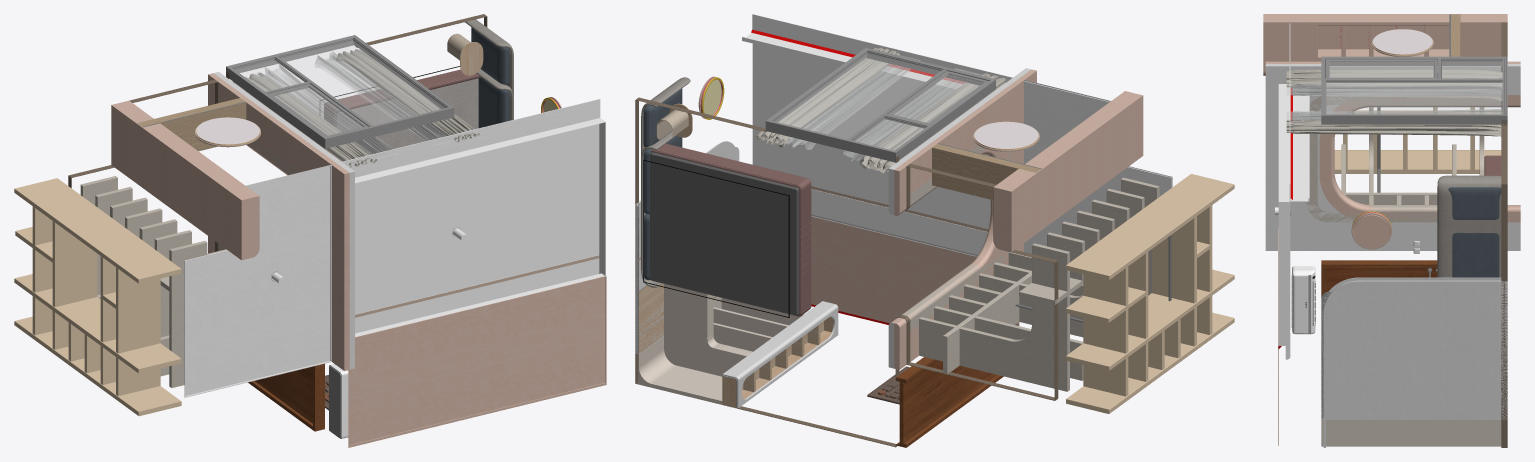
File: girl.glb
3 views of the same model, side by side, from view 1: azimuth 30°, elevation 25°; view 2: azimuth 150°, elevation 25°; view 3: azimuth 270°, elevation 25° (orthographic). The views are drawn at different scales.
Visible parts, largest first — view 1: Group 81, Group 82, Group 77, Group 102, Group 103, Groups-029, Group 175, Group 83, Group 144, _________5#1 (×2), Groups-024, Group 4 (+23 smaller); view 2: Group 81, Group 7, Group 103, Group 102, Groups-029, Group 6, Group 82, Group 175, Component#90 (×2), Component#146 (×7), Group 77, _________5#1 (×2) (+41 smaller); view 3: Group 137, Groups-029, Group 116, Group 142, _________5#1 (×2), Group 175, Group 30, Group 117, Groups-024, Group 103, Group203#2, Group 178 (+28 smaller).
Part boxes in pixels (x1,y1,x2,y2): Group 81: (355,118,605,336); Group 82: (348,276,606,447); Group 77: (184,164,331,397); Group 102: (32,206,160,396); Group 103: (14,178,181,416); Groups-029: (111,100,259,260); Group 175: (281,40,444,125); Group 83: (342,99,600,177); Group 144: (208,73,341,365); _________5#1 (×2): (232,49,479,167); Groups-024: (255,51,457,159); Group 4: (337,78,478,153); Group 81: (753,43,990,256); Group 7: (649,152,799,282); Group 103: (1066,174,1234,413); Group 102: (1083,205,1212,396); Groups-029: (993,91,1143,251); Group 6: (649,187,799,315); Group 82: (811,216,1019,325); Group 175: (774,53,940,138); Component#90 (×2): (959,283,1083,391); Component#146 (×7): (919,188,1144,361); Group 77: (1024,80,1172,253); _________5#1 (×2): (755,47,1005,173); Group 137: (1321,277,1507,447); Groups-029: (1263,14,1507,75); Group 116: (1265,64,1501,250); Group 142: (1279,64,1520,250); _________5#1 (×2): (1286,69,1502,136); Group 175: (1326,82,1502,113); Group 30: (1321,418,1501,446); Group 117: (1306,95,1501,222); Groups-024: (1287,83,1502,120); Group 103: (1334,110,1501,173); Group203#2: (1437,175,1501,277); Group 178: (1321,56,1507,124).
Size of the model in its own units: 6.55 by 3.89 by 3.32.
47 materials, 17 textured.
